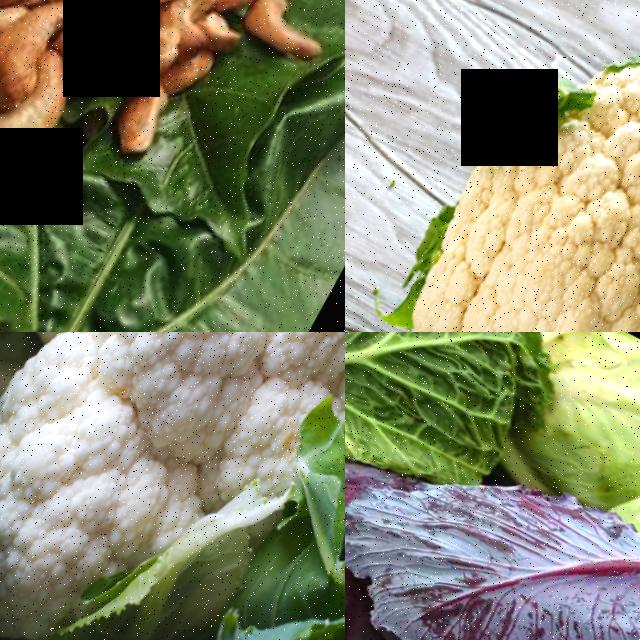cabbage: (345, 425, 640, 640), (518, 332, 640, 487)
cashew: (0, 60, 88, 201), (0, 0, 91, 110), (233, 0, 332, 70), (212, 0, 288, 21)
cauliflower: (0, 332, 345, 640), (345, 0, 640, 332)
